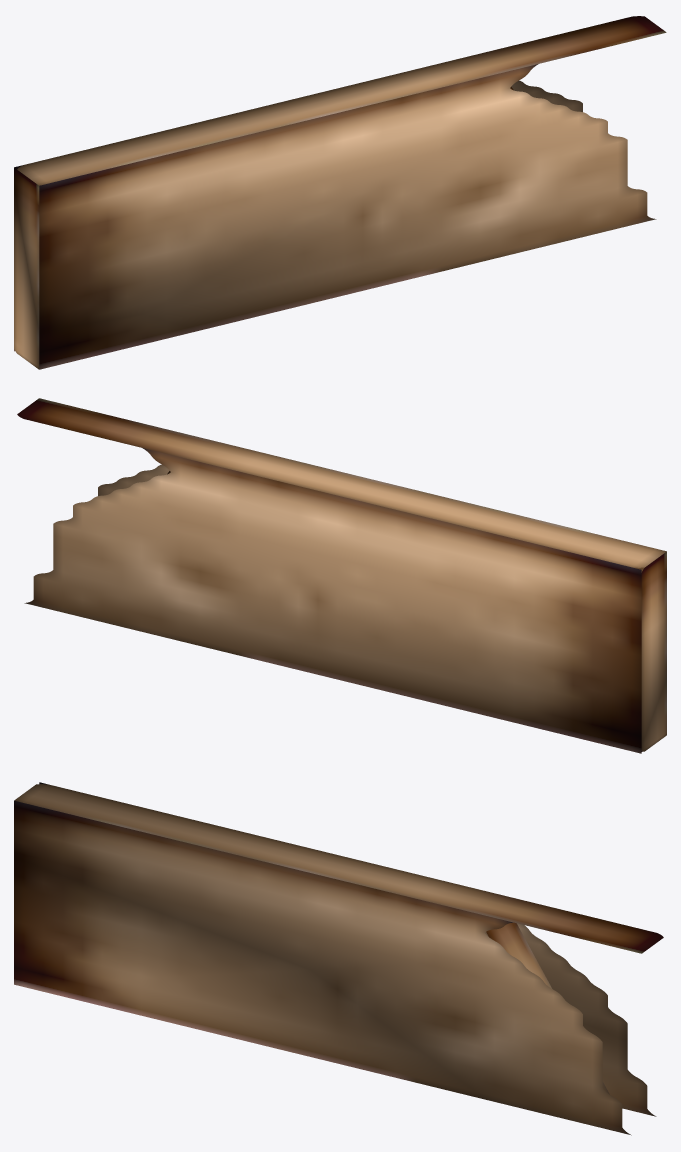
The picture shows the model from 3 angles, top to bottom: view 1: azimuth 30°, elevation 25°; view 2: azimuth 150°, elevation 25°; view 3: azimuth 330°, elevation 25°; orthographic projection.
Parts seen in each view (by area): view 1: T1L2M007_23; view 2: T1L2M007_23; view 3: T1L2M007_23.
Part boxes in pixels (box(x1,y1,x2,y2)): T1L2M007_23: box(14, 16, 666, 369); T1L2M007_23: box(17, 398, 666, 753); T1L2M007_23: box(14, 782, 663, 1135).
Bounding box in the file's own units: 2.5 × 0.7002 × 0.1738.
Materials: 1 (1 with a texture image).
